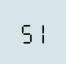five: (19, 19, 31, 43)
one: (32, 19, 44, 44)
